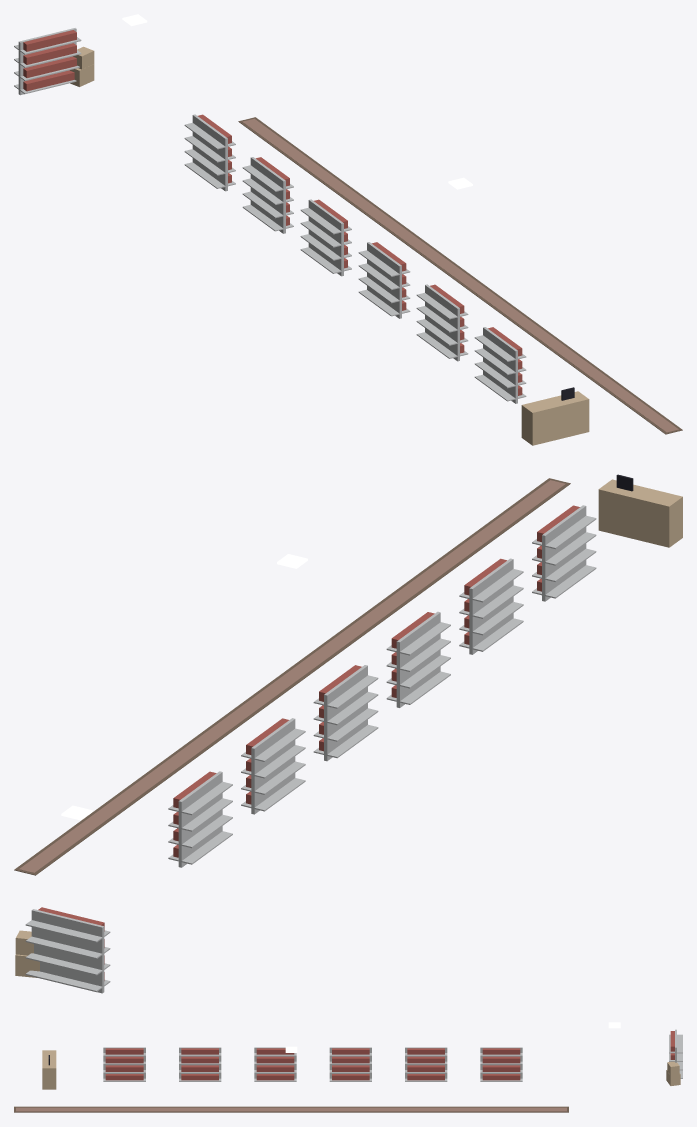
Rendered from fine-s0.glb.
3 views of the same model, one above another, from view 1: azimuth 30°, elevation 25°; view 2: azimuth 150°, elevation 25°; view 3: azimuth 270°, elevation 25° (orthographic). The views are drawn at different scales.
Parts seen in each view (by area): view 1: soft-s0, shelving.000, shop-counter.000, shelf.004, shelf.003, shelf.002, shelf.000, shelf.005, shelf.001, cardboard-box.000; view 2: soft-s0, shelving.000, shop-counter.000, shelf.004, shelf.000, shelf.001, shelf.003, shelf.005, shelf.002, cardboard-box.000; view 3: soft-s0, shelf.000, shelf.001, shelf.002, shelf.004, shelf.005, shelf.003, shop-counter.000, shelving.000, cardboard-box.000.
Part boxes in pixels (<box>): soft-s0: <box>238,117,682,434</box>; shelving.000: <box>14,28,81,95</box>; shop-counter.000: <box>521,387,589,445</box>; shelf.004: <box>416,284,468,361</box>; shelf.003: <box>358,242,410,318</box>; shelf.002: <box>300,199,351,276</box>; shelf.000: <box>184,114,235,191</box>; shelf.005: <box>474,327,526,403</box>; shelf.001: <box>242,157,293,233</box>; cardboard-box.000: <box>70,46,94,86</box>; soft-s0: <box>14,478,570,875</box>; shelving.000: <box>25,907,110,993</box>; shop-counter.000: <box>598,474,682,547</box>; shelf.004: <box>459,558,523,654</box>; shelf.000: <box>168,771,232,867</box>; shelf.001: <box>241,718,305,814</box>; shelf.003: <box>386,611,450,707</box>; shelf.005: <box>532,505,596,601</box>; shelf.002: <box>313,665,378,761</box>; cardboard-box.000: <box>15,930,39,977</box>; soft-s0: <box>14,1106,568,1112</box>; shelf.000: <box>480,1047,522,1081</box>; shelf.001: <box>405,1047,447,1081</box>; shelf.002: <box>329,1047,371,1081</box>; shelf.004: <box>179,1047,221,1081</box>; shelf.005: <box>103,1047,145,1081</box>; shelf.003: <box>254,1047,296,1081</box>; shop-counter.000: <box>42,1050,56,1089</box>; shelving.000: <box>669,1029,682,1078</box>; cardboard-box.000: <box>666,1061,680,1085</box>.
Bounding box in the file's own units: 4.89 × 2.83 × 28.4.
